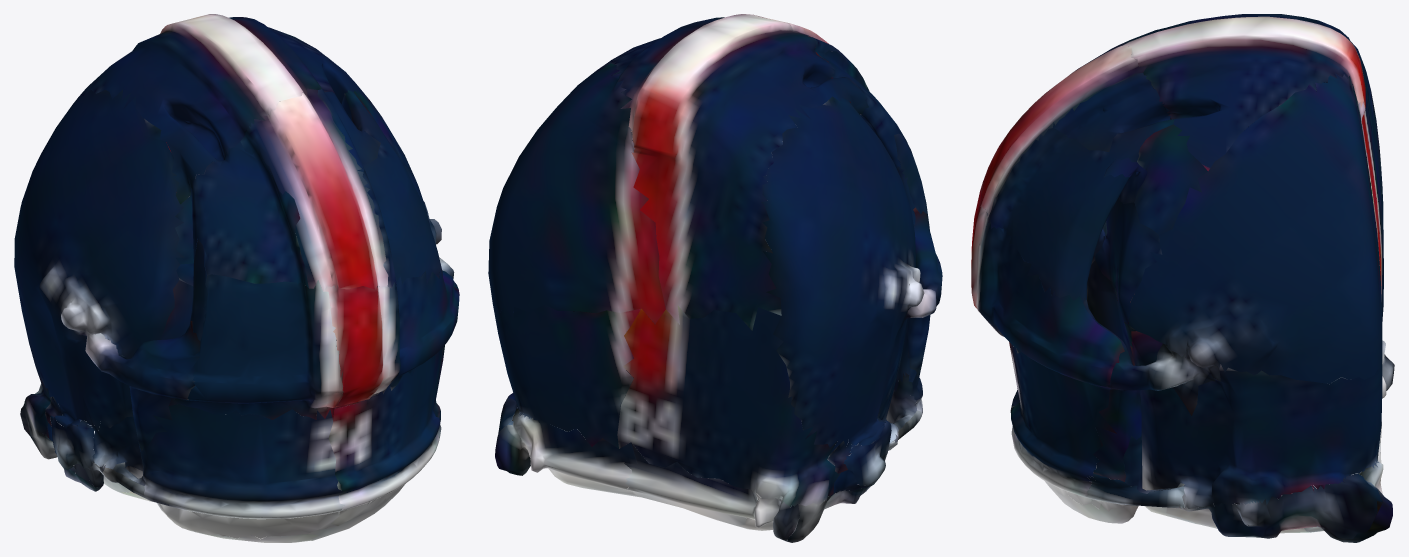
Rendered from helmet2.glb.
3 renders of one model, left to right at view 1: azimuth 30°, elevation 25°; view 2: azimuth 150°, elevation 25°; view 3: azimuth 270°, elevation 25°, orthographic. The views are drawn at different scales.
Visible parts, largest first — view 1: football; view 2: football; view 3: football.
Part boxes in pixels (x1,y1,x2,y2): football: (14, 14, 459, 542); football: (488, 14, 942, 542); football: (971, 14, 1394, 542).
Bounding box in the file's own units: 0.2507 × 0.2801 × 0.2334.
1 material, 1 textured.
